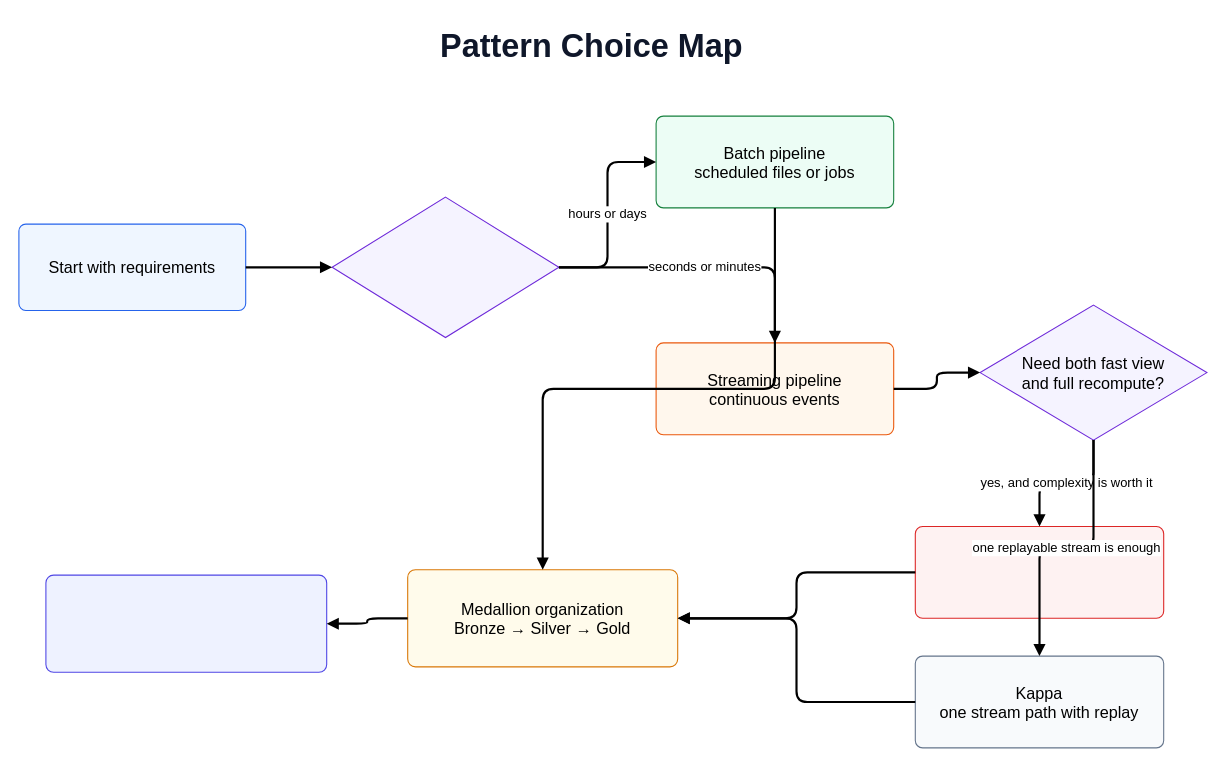
This 1226x767 diagram has some shape labels left out. The shapes that lost their labels are listed below. From the top down, each one's centre as x and y in pixels, then its label:
At [445,267]: "How fresh must consumer data be?".
At [1039,571]: "Lambda batch path + speed path".
At [186,623]: "Architecture decision justify with freshness, cost, risk, and consumers".
